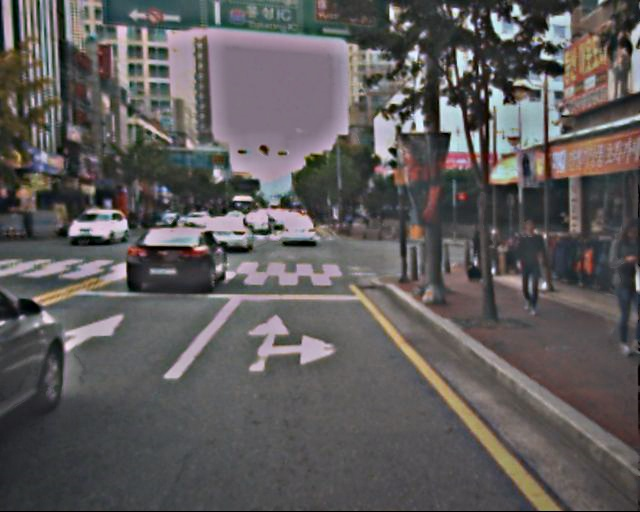person: (588, 216, 640, 356), (510, 218, 551, 318), (469, 218, 500, 285)
